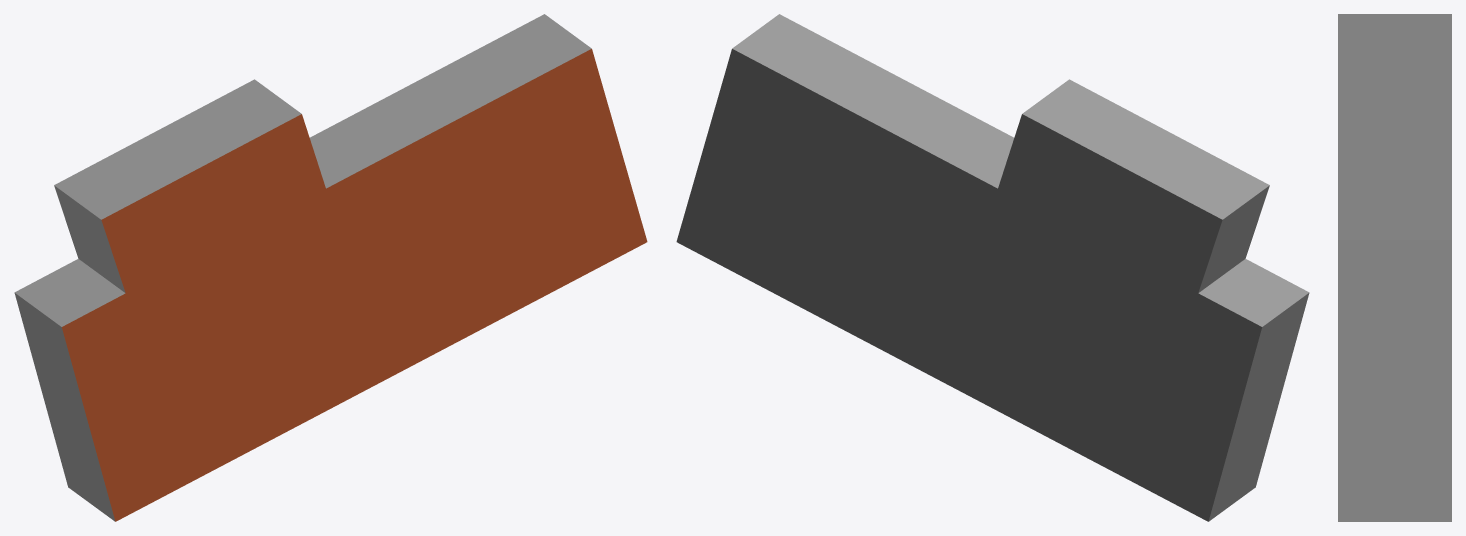
File: construction_5680_assumed_A_Casa_h6m.obj
3 views of the same model, side by side, from view 1: azimuth 30°, elevation 25°; view 2: azimuth 150°, elevation 25°; view 3: azimuth 270°, elevation 25° (orthographic). The views are drawn at different scales.
Parts seen in each view (by area): view 1: construction_5680_assumed_A_Casa; view 2: construction_5680_assumed_A_Casa; view 3: construction_5680_assumed_A_Casa.
Part boxes in pixels (box(x1,y1,x2,y2)): construction_5680_assumed_A_Casa: box(14, 14, 647, 521); construction_5680_assumed_A_Casa: box(676, 14, 1309, 521); construction_5680_assumed_A_Casa: box(1338, 14, 1451, 521).
Size of the model in its own units: 42.89 by 25.36 by 6.
